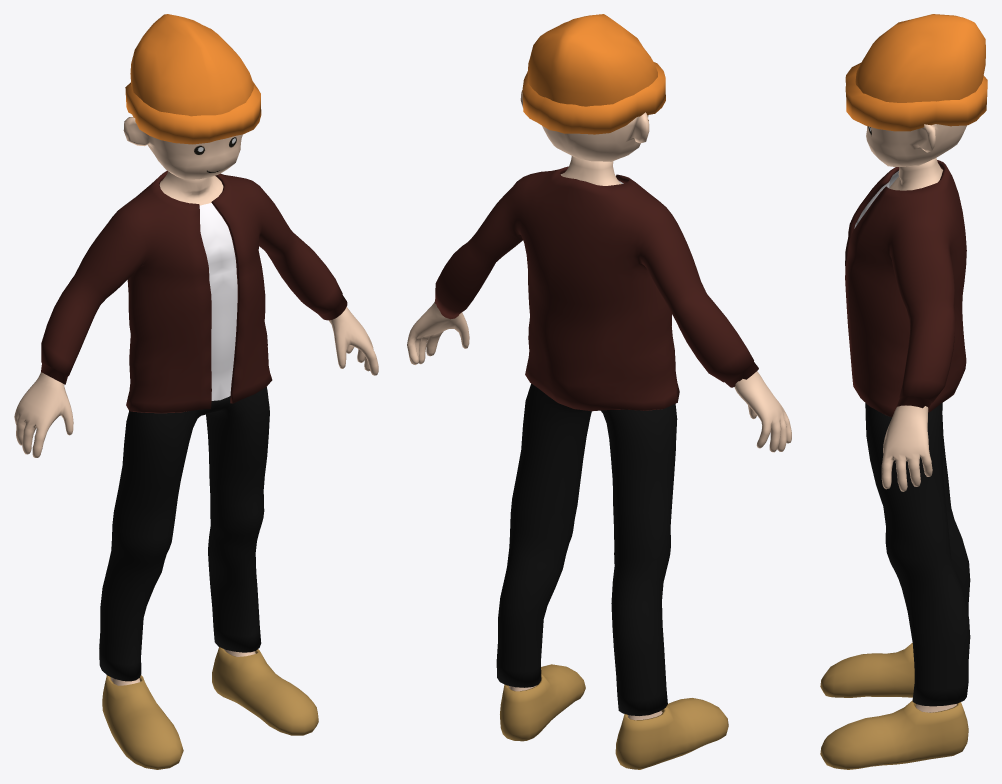
The model's file is Xavier adult.fbx.
3 renders of one model, left to right at view 1: azimuth 30°, elevation 25°; view 2: azimuth 150°, elevation 25°; view 3: azimuth 270°, elevation 25°, orthographic. The views are drawn at different scales.
Visible parts, largest first — view 1: Xavier's adult jacket; view 2: Xavier's adult jacket; view 3: Xavier's adult jacket.
Part boxes in pixels (box(x1,y1,x2,y2)): Xavier's adult jacket: box(14, 14, 378, 769); Xavier's adult jacket: box(407, 14, 791, 769); Xavier's adult jacket: box(820, 14, 987, 769).
Bounding box in the file's own units: 181 × 342 × 72.61.
